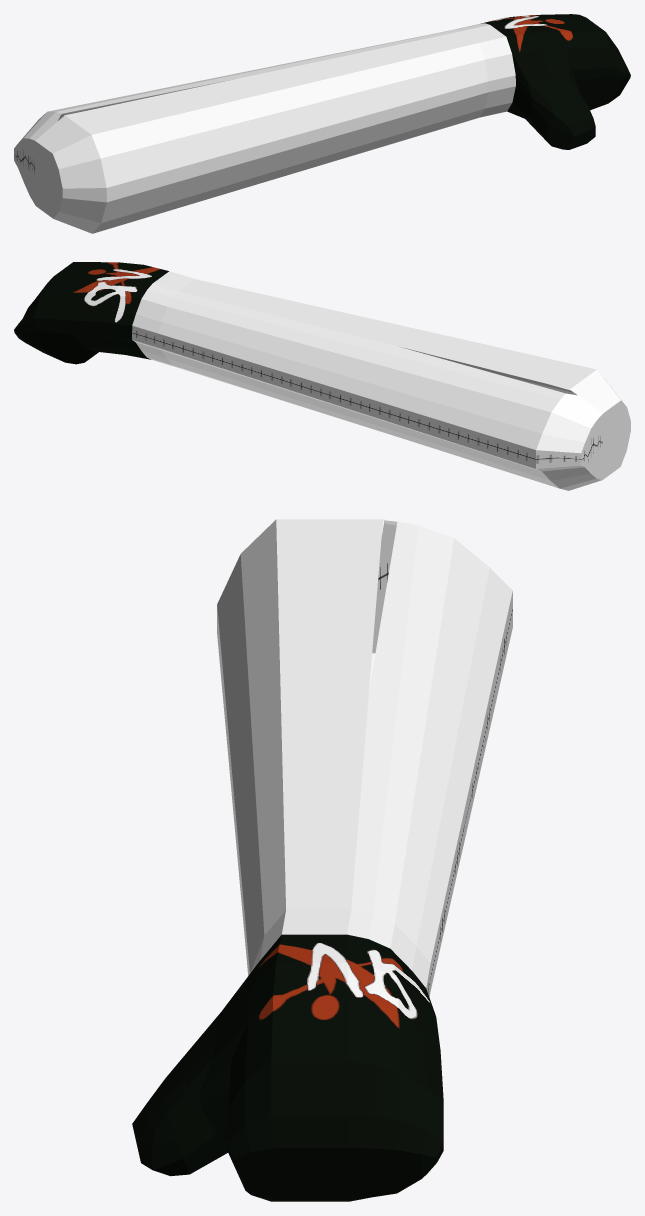
File: arm_left.FBX
The picture shows the model from 3 angles, top to bottom: view 1: azimuth 30°, elevation 25°; view 2: azimuth 150°, elevation 25°; view 3: azimuth 270°, elevation 25°; orthographic projection. The views are drawn at different scales.
Visible parts, largest first — view 1: Box001; view 2: Box001; view 3: Box001.
Part boxes in pixels (left/top/right/bottom): Box001: left=14, top=14, right=630, bottom=233; Box001: left=14, top=262, right=630, bottom=490; Box001: left=132, top=519, right=512, bottom=1201.
Bounding box in the file's own units: 9.36 × 1.63 × 2.75.
